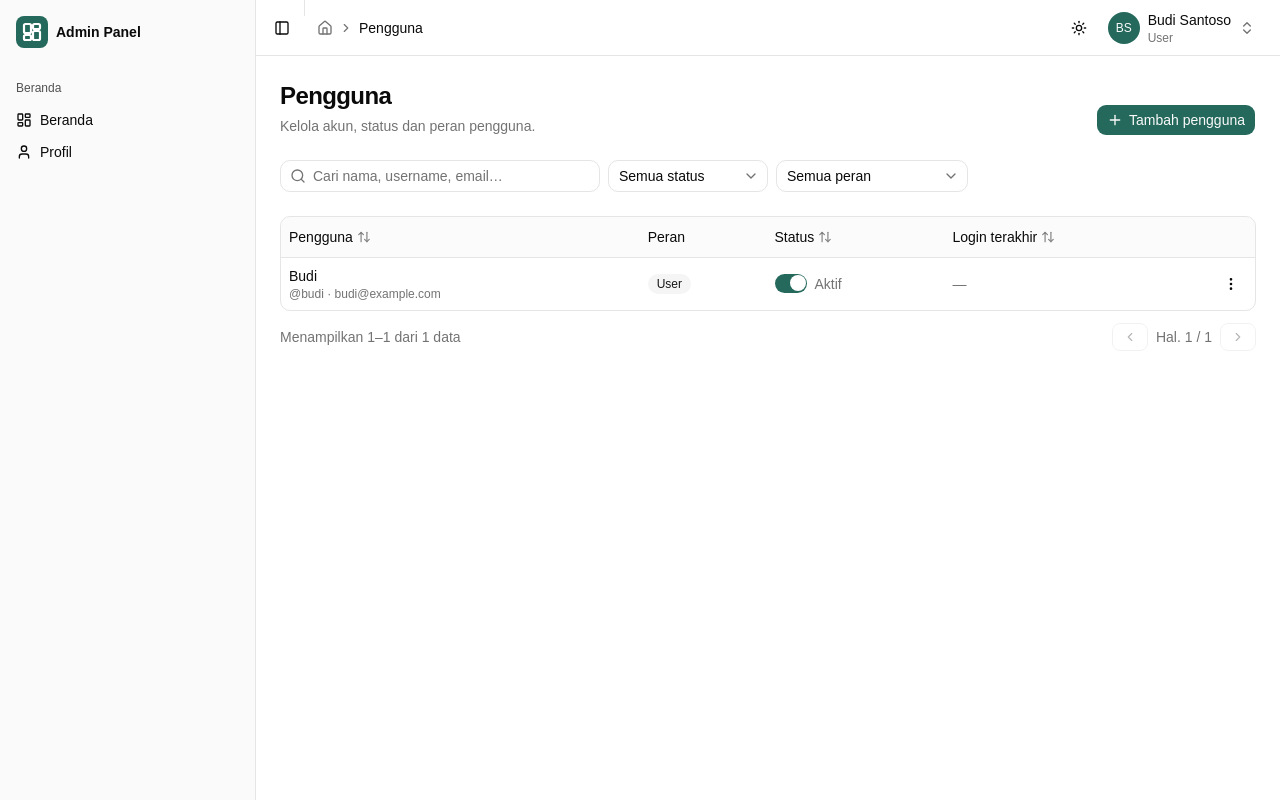
Scenario: user administration dialogs › shows API refusals (e.g. last super-admin) as an error
Click the button named "Aksi untuk Budi": (1231, 284) 1215,268 -> 1247,300
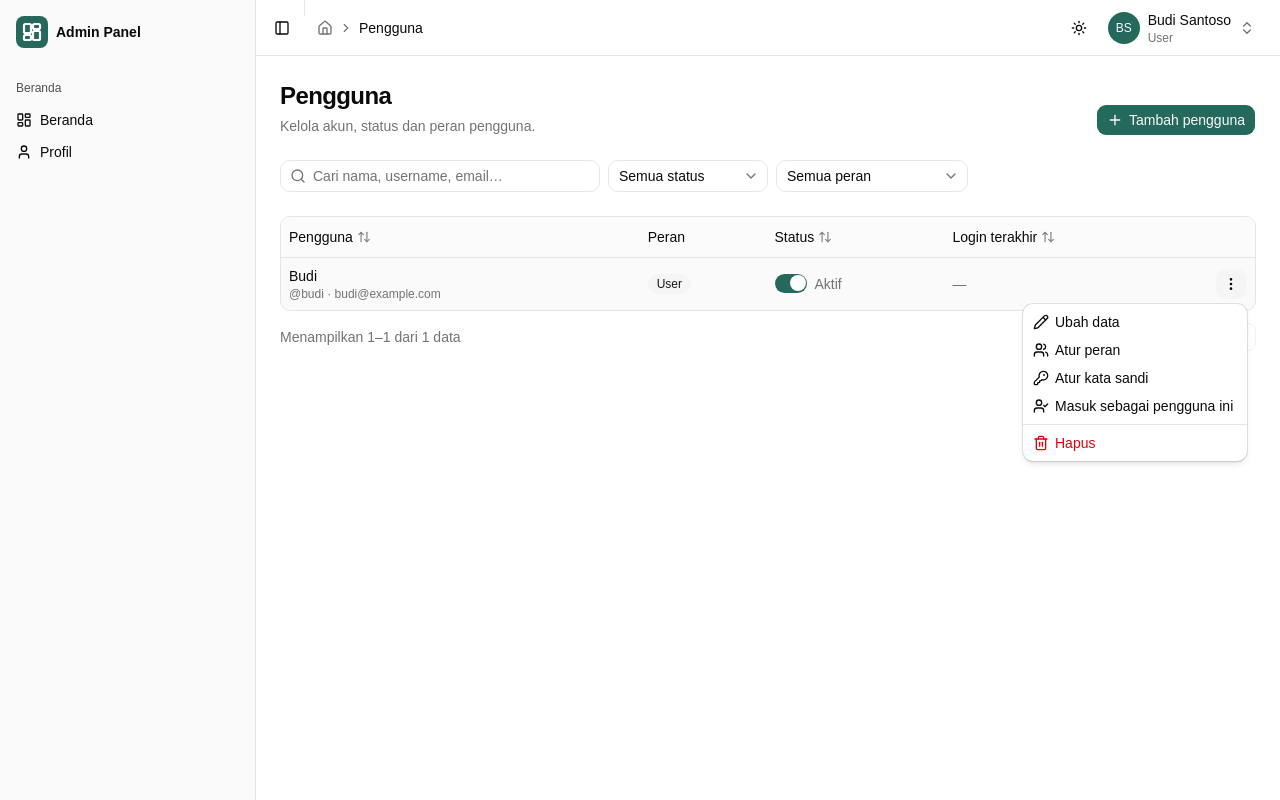
Click the menu item "Atur peran": (1077, 350) 1033,342 -> 1120,358
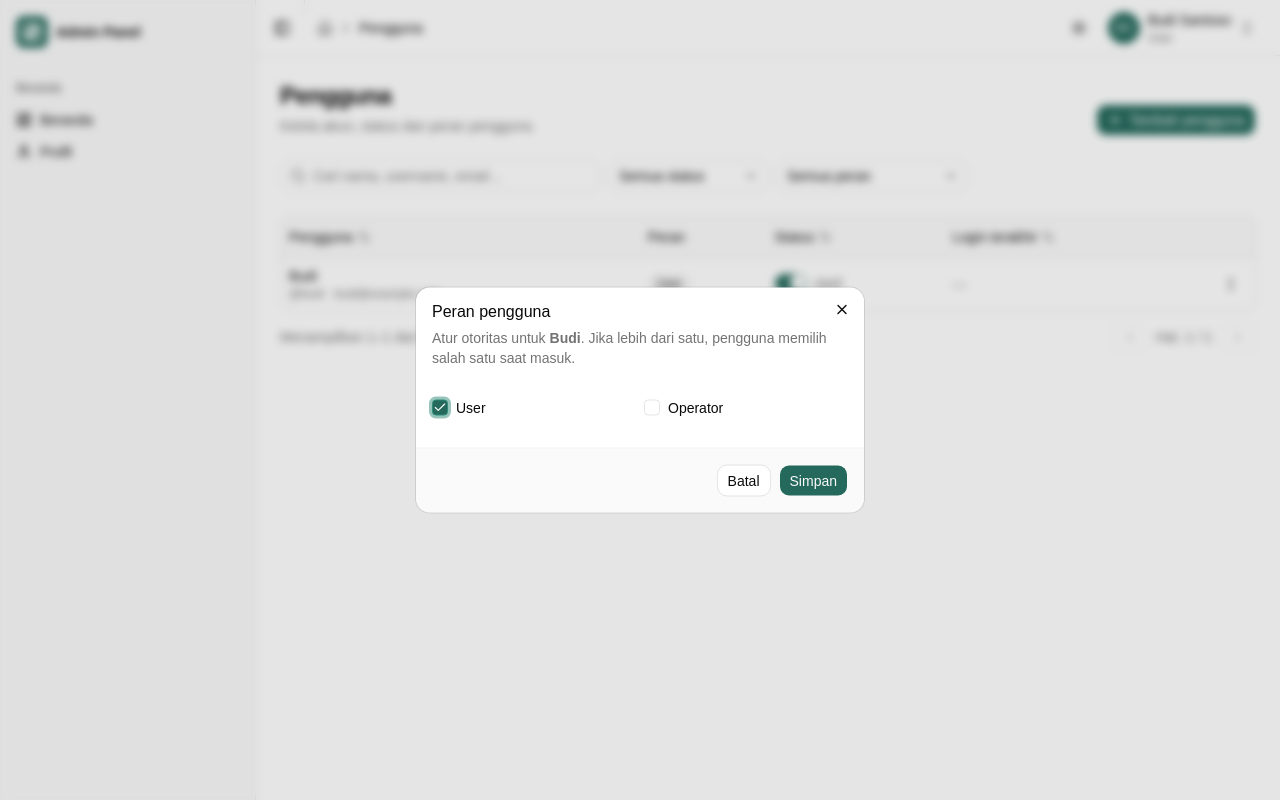
Click the button "Simpan": (813, 480) 778,464 -> 848,496
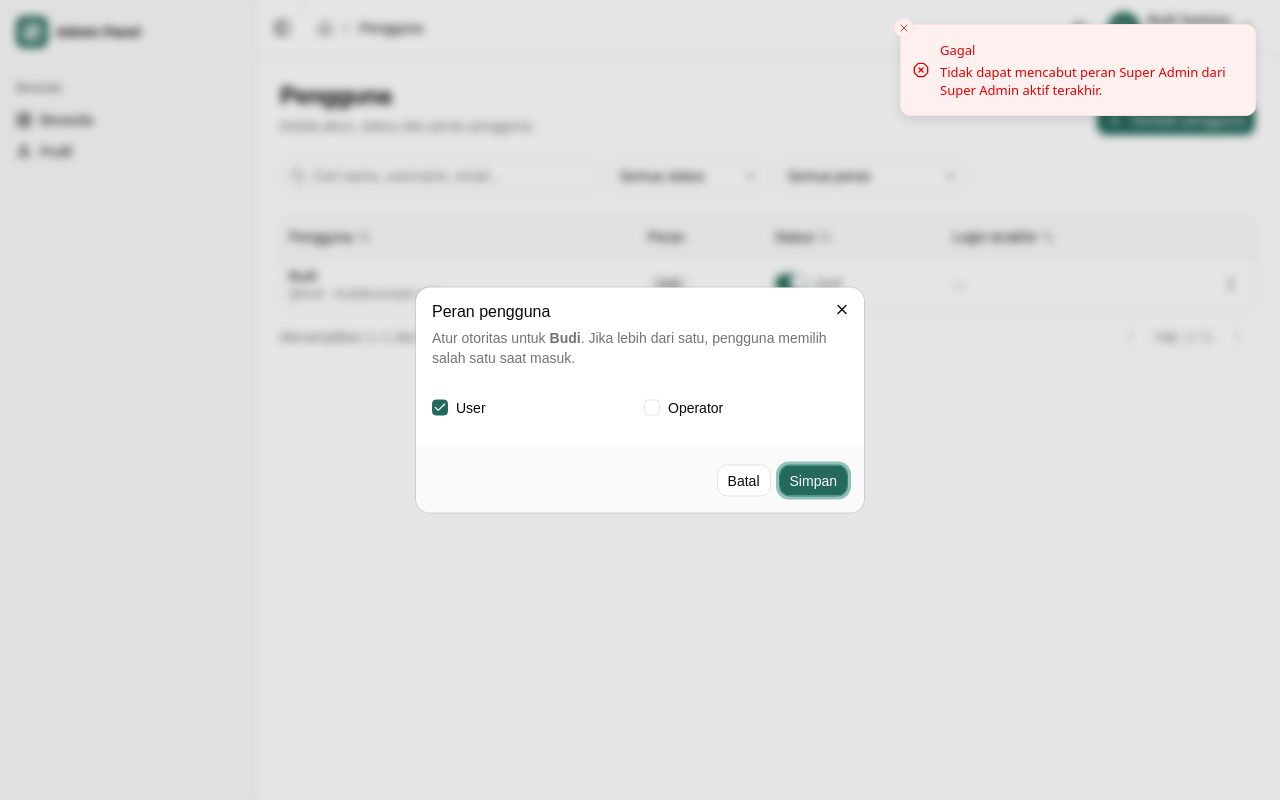
Expected: the dialog is shown, 416,288 -> 864,512
Expected: the text "Super Admin aktif terakhir" is shown, 940,62 -> 1226,99
